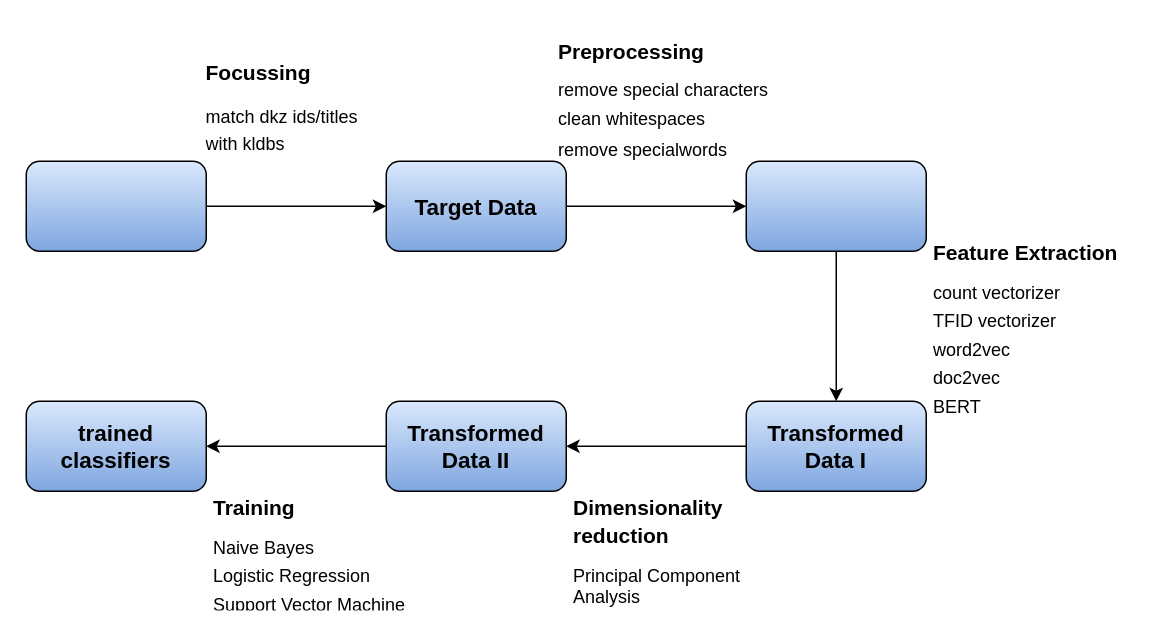
Image size: 1163x639. Some labels were removed from this diagram. Each missing label, with the centre of its shape:
"Data" belongs at pixel 115 205.
"Preprocessed Data" belongs at pixel 835 205.
